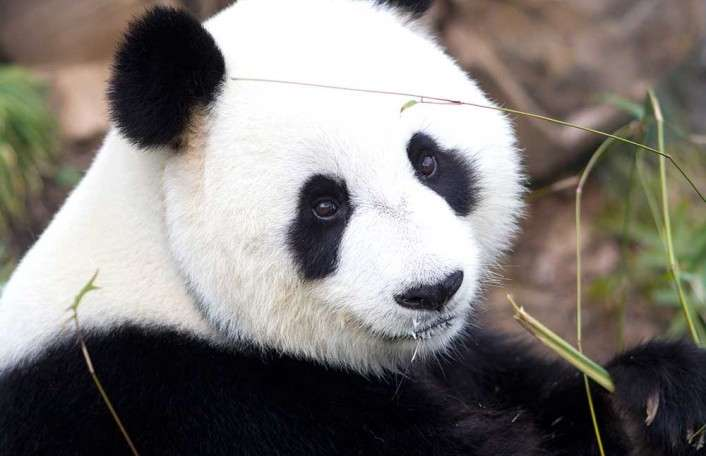panda: (58, 8, 566, 456)
